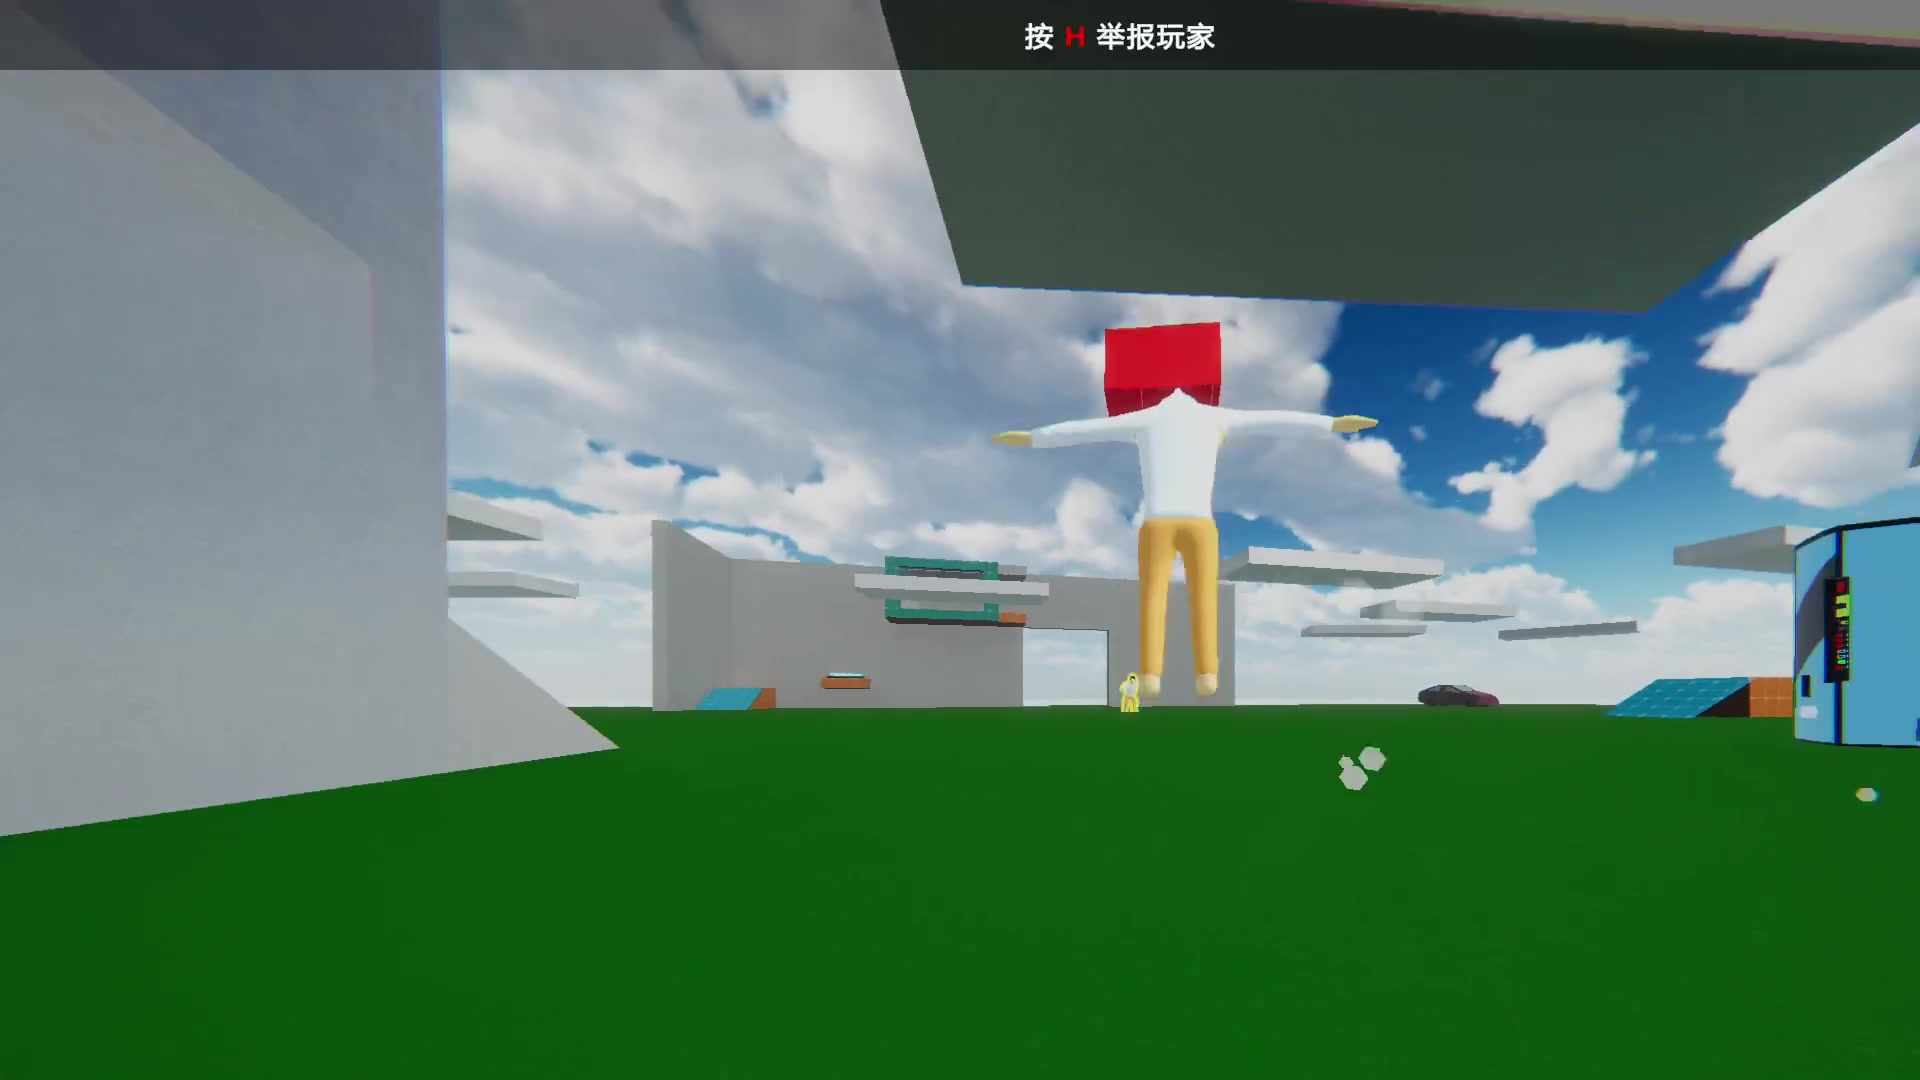human: (1109, 332, 1242, 678), (1122, 668, 1137, 712)
